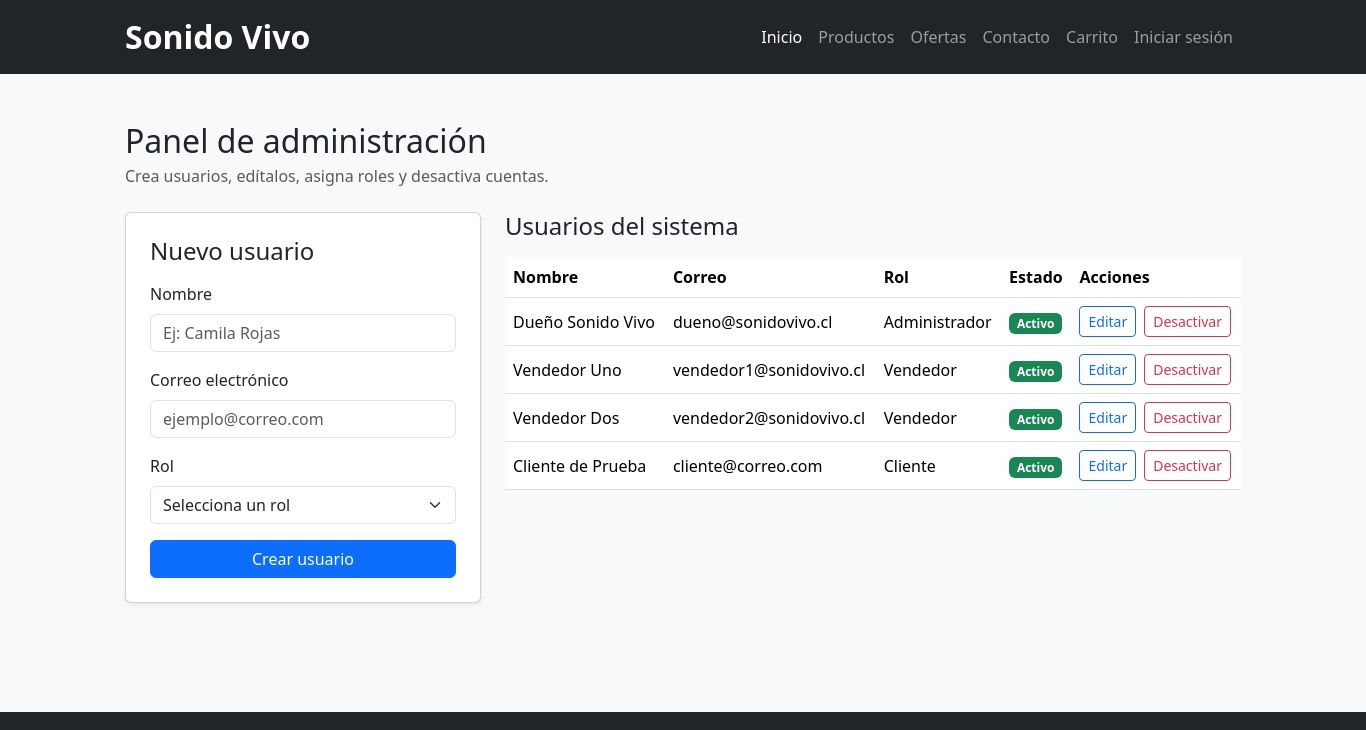
Test: AdminUsersPage › desactiva y vuelve a activar un usuario
This screenshot has width=1366, height=730.
Click the button with aria-label "Desactivar a Vendedor Uno" at [1188, 370], box [1144, 354, 1231, 385]
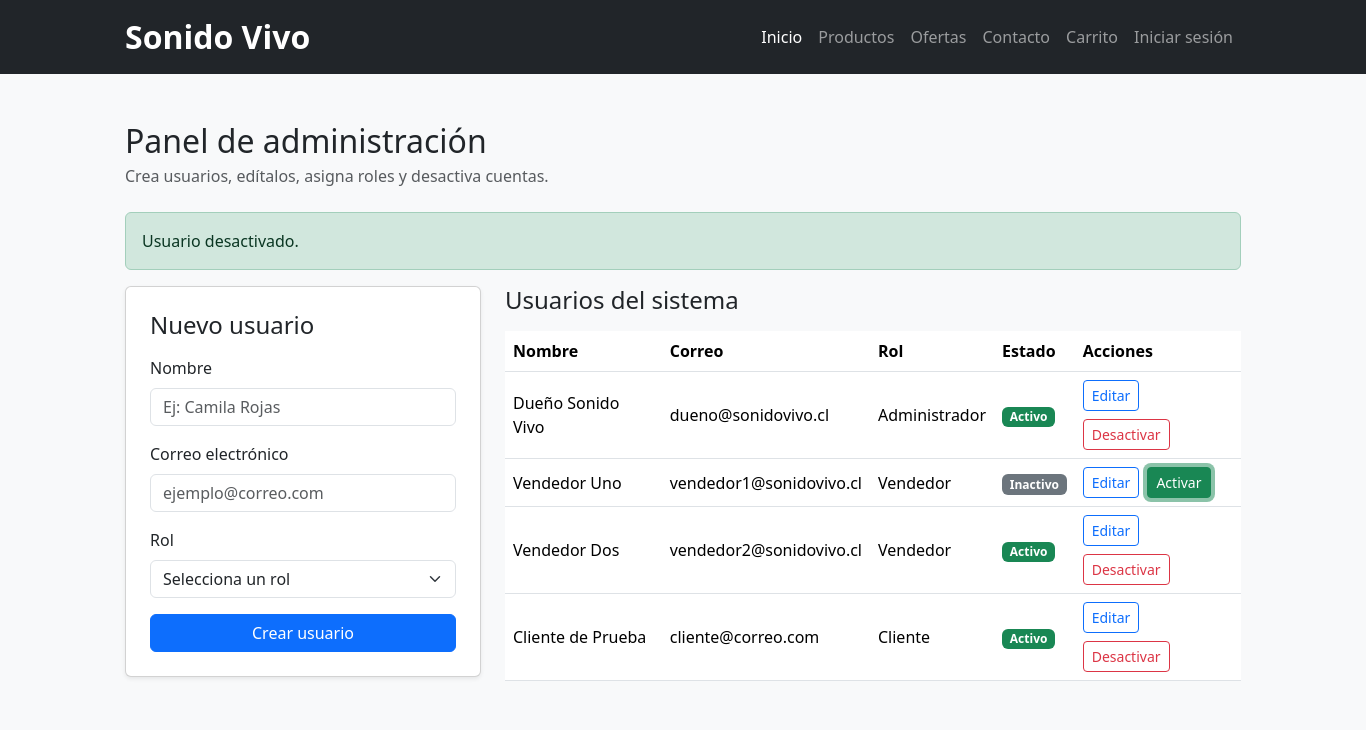
Check: the text "Inactivo" is shown, box [1002, 474, 1067, 495]
Click the button with aria-label "Activar a Vendedor Uno" at [1179, 483], box [1147, 467, 1210, 498]
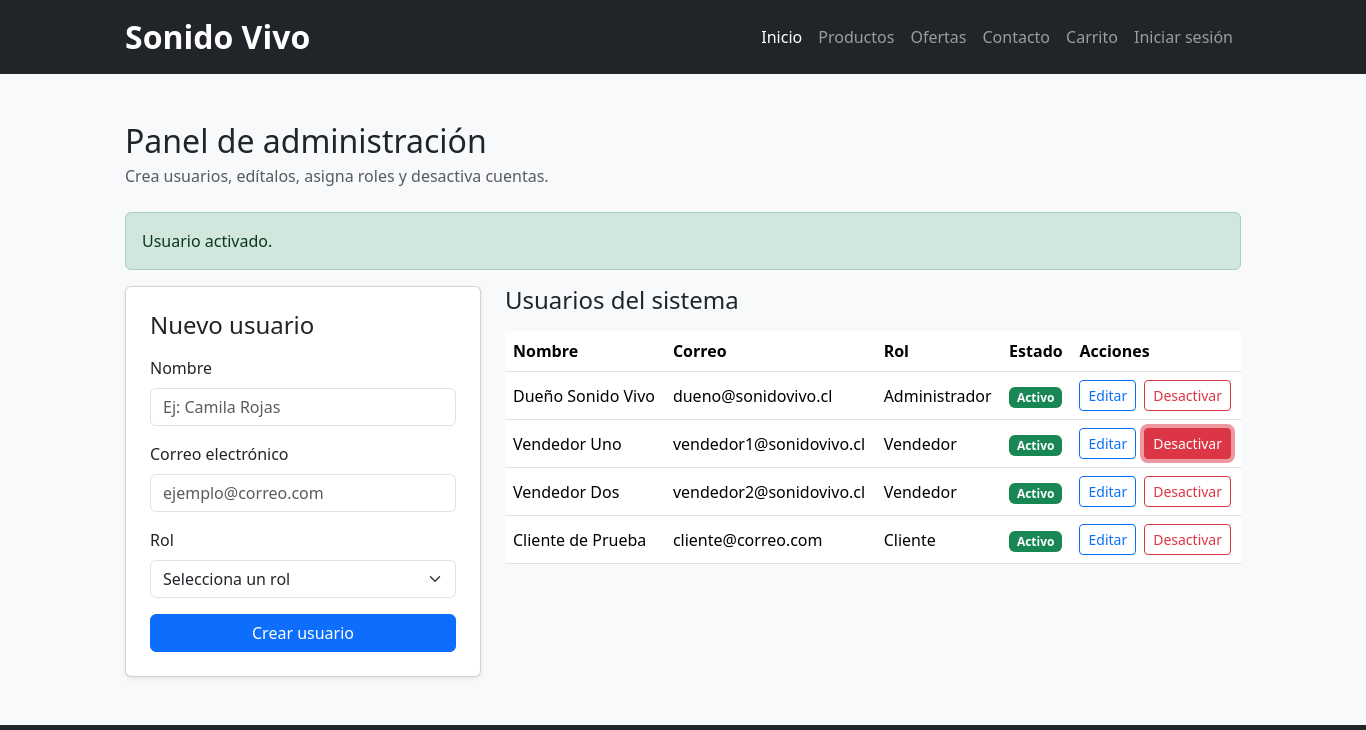
Check: the text "Inactivo" is gone
